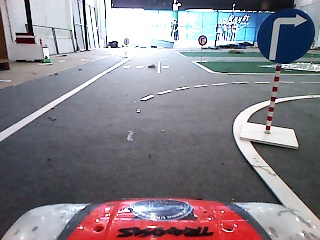turn: (257, 6, 316, 66)
